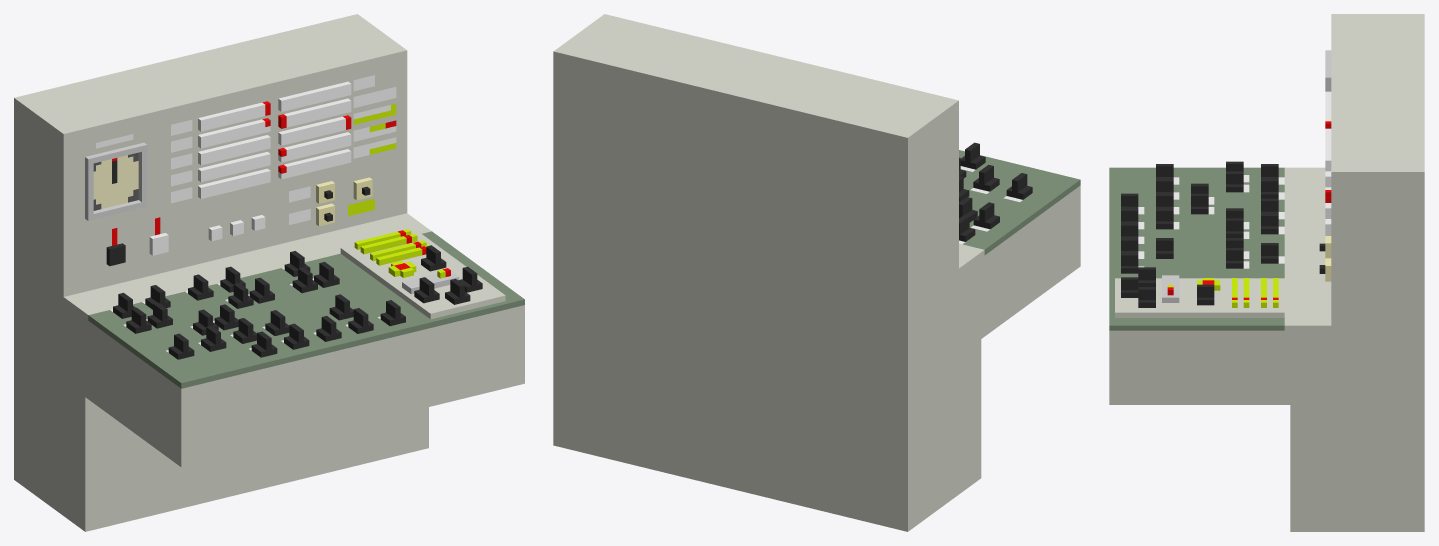
File: Control Panel6.fbx
3 views of the same model, side by side, from view 1: azimuth 30°, elevation 25°; view 2: azimuth 150°, elevation 25°; view 3: azimuth 270°, elevation 25° (orthographic). The views are drawn at different scales.
Visible parts, largest first — view 1: Control Panel6.003, Control Panel6.002, Control Panel6.001; view 2: Control Panel6.003, Control Panel6.001, Control Panel6.002; view 3: Control Panel6.002, Control Panel6.003, Control Panel6.001.
Part boxes in pixels (<box>): Control Panel6.003: <box>14,14,407,325</box>; Control Panel6.002: <box>57,213,524,467</box>; Control Panel6.001: <box>14,304,428,531</box>; Control Panel6.003: <box>553,14,958,357</box>; Control Panel6.001: <box>553,266,987,531</box>; Control Panel6.002: <box>952,142,1080,338</box>; Control Panel6.002: <box>1109,161,1331,404</box>; Control Panel6.003: <box>1319,14,1424,373</box>; Control Panel6.001: <box>1278,330,1424,531</box>.
Size of the model in its own units: 6.4 by 6.8 by 5.4.
